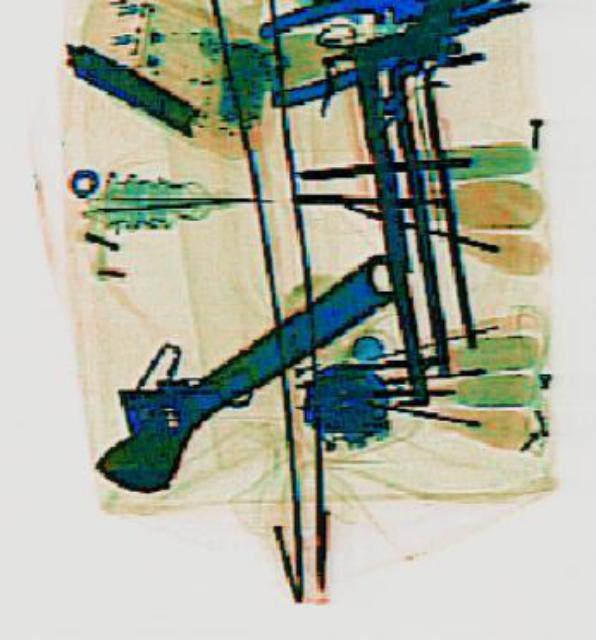Pliers: (258, 0, 516, 101)
Wrench: (61, 217, 429, 515)
